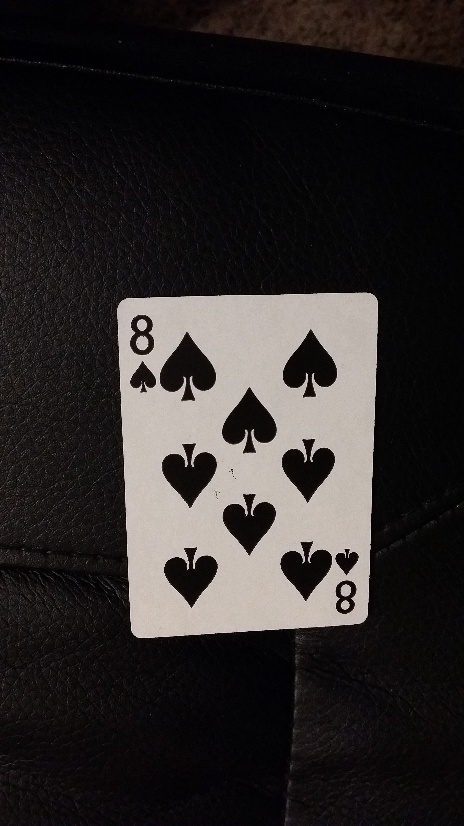S8: (123, 308, 160, 396), (331, 542, 362, 616)
